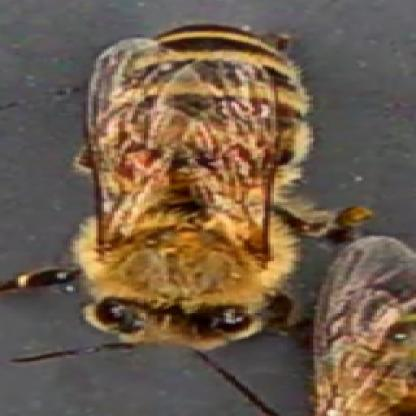bee: (76, 23, 300, 346), (335, 239, 416, 416)
vaoora: (218, 150, 248, 166)
